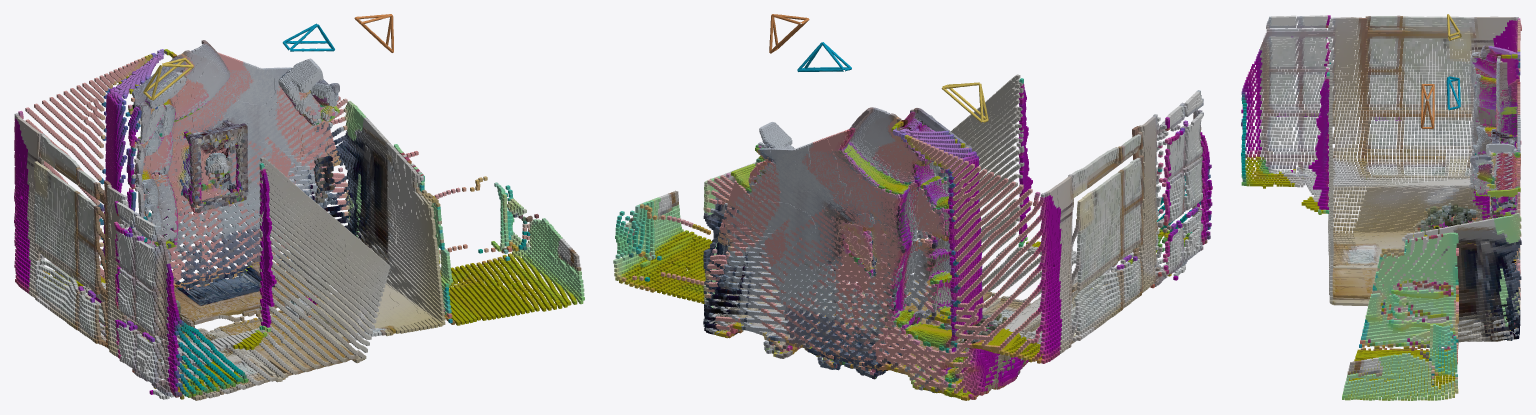
3 renders of one model, left to right at view 1: azimuth 30°, elevation 25°; view 2: azimuth 150°, elevation 25°; view 3: azimuth 270°, elevation 25°, orthographic. The views are drawn at different scales.
Bounding box in the file's own units: 8.35 × 4.88 × 5.
